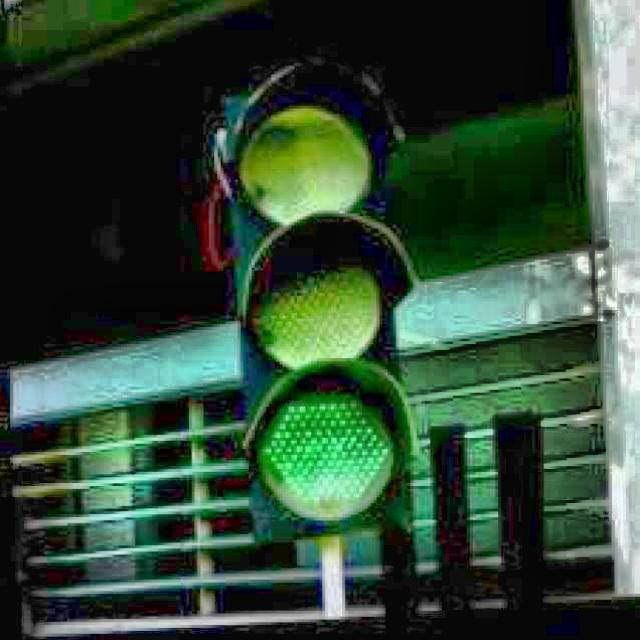green: (224, 71, 425, 532)
